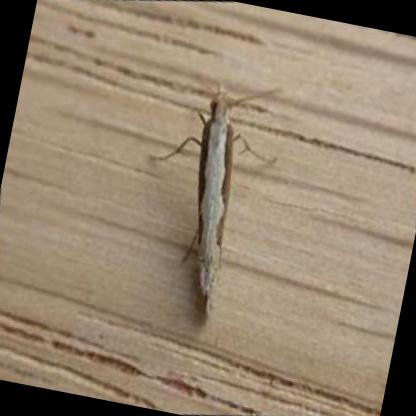plutella: (144, 84, 281, 333)
